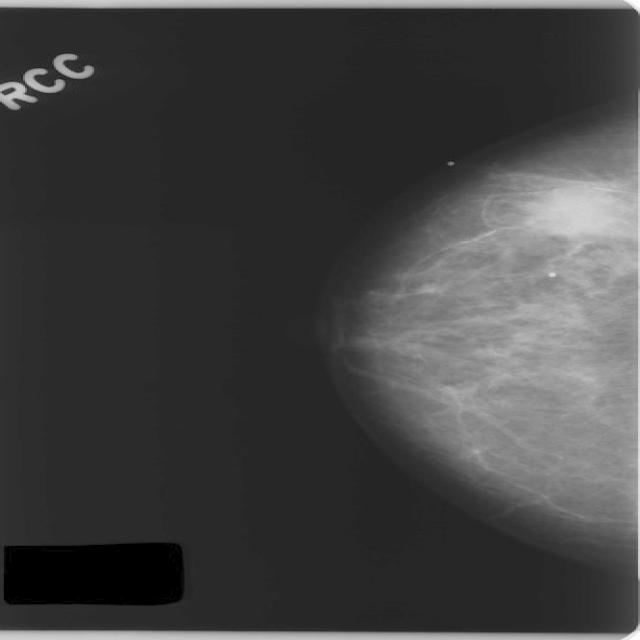tumour: (521, 177, 628, 238)
